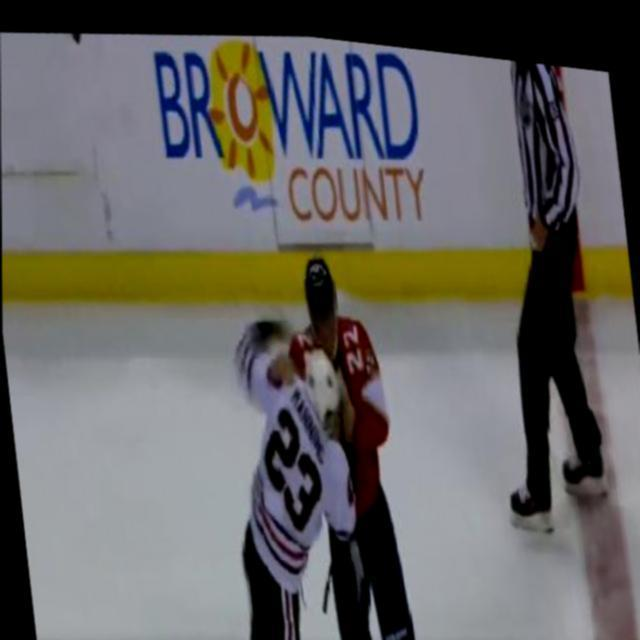fight: (215, 228, 417, 640)
